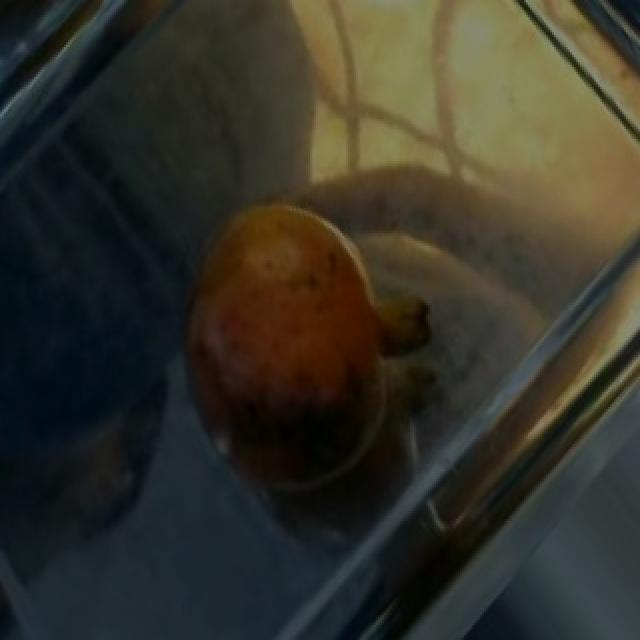fruit: (160, 174, 416, 462)
